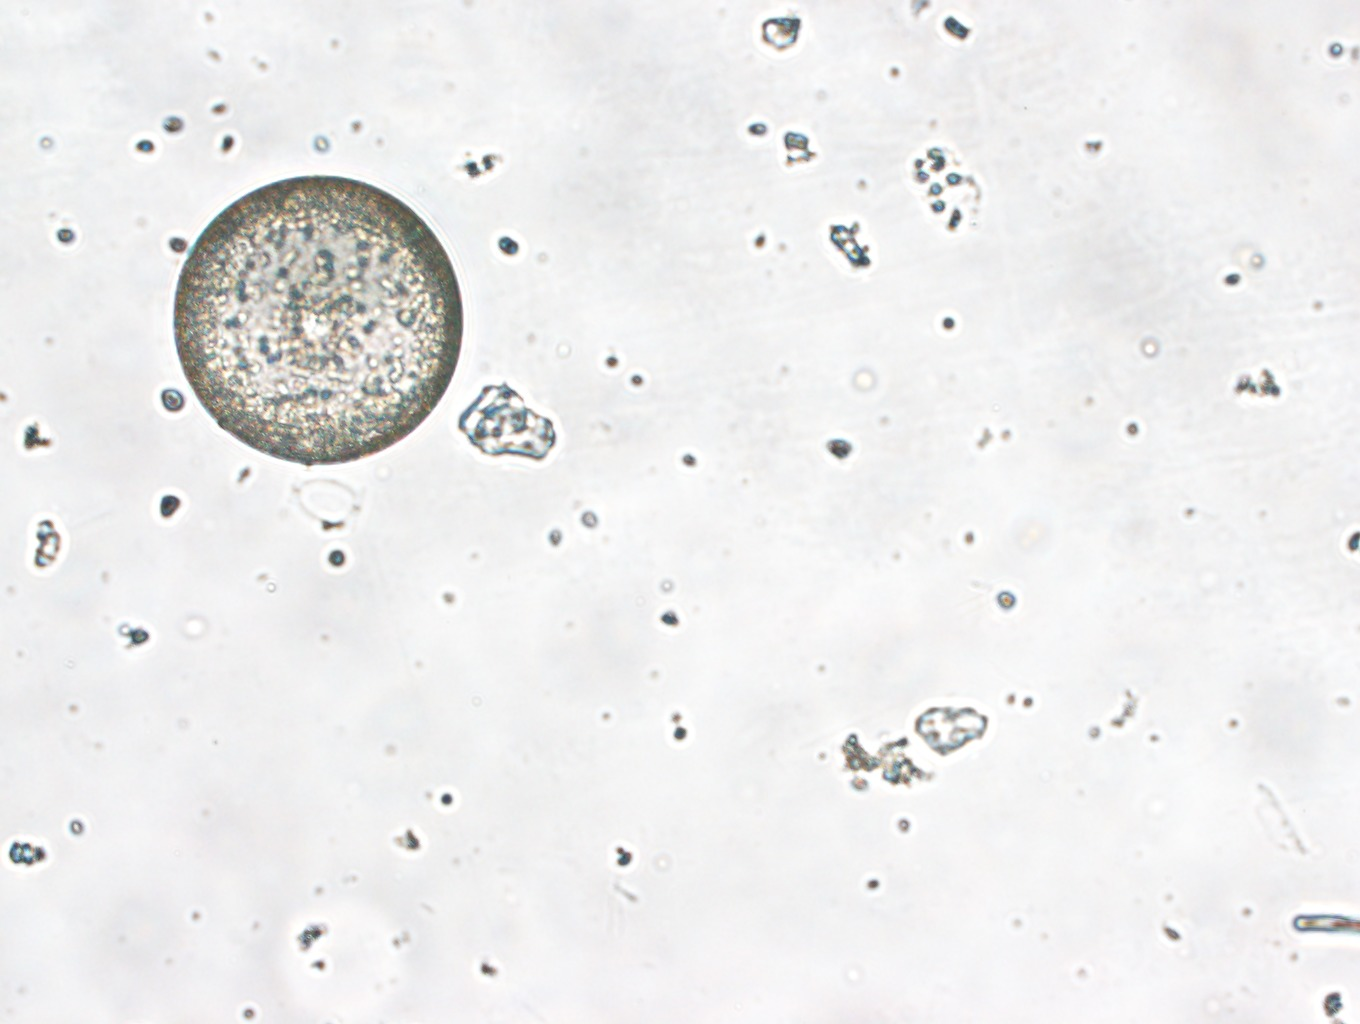coscinodiscus: (164, 166, 475, 477)
